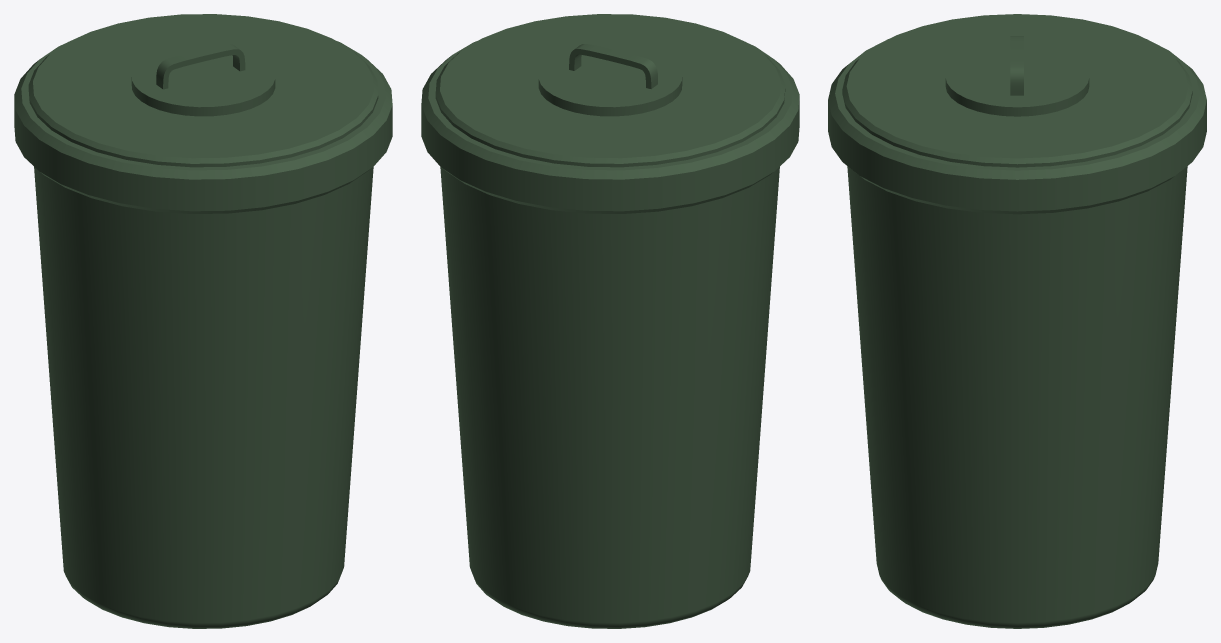
File: rua_bin.glb
The picture shows the model from 3 angles, left to right: view 1: azimuth 30°, elevation 25°; view 2: azimuth 150°, elevation 25°; view 3: azimuth 270°, elevation 25°; orthographic projection.
Parts seen in each view (by area): view 1: SM_Bin; view 2: SM_Bin; view 3: SM_Bin.
Boxes of the visible parts, x1=… form: SM_Bin: x1=14, y1=14, x2=392, y2=628; SM_Bin: x1=421, y1=14, x2=799, y2=628; SM_Bin: x1=828, y1=14, x2=1206, y2=628.
Size of what is drawn, in the model's own units: 0.5652 by 0.8574 by 0.5652.
